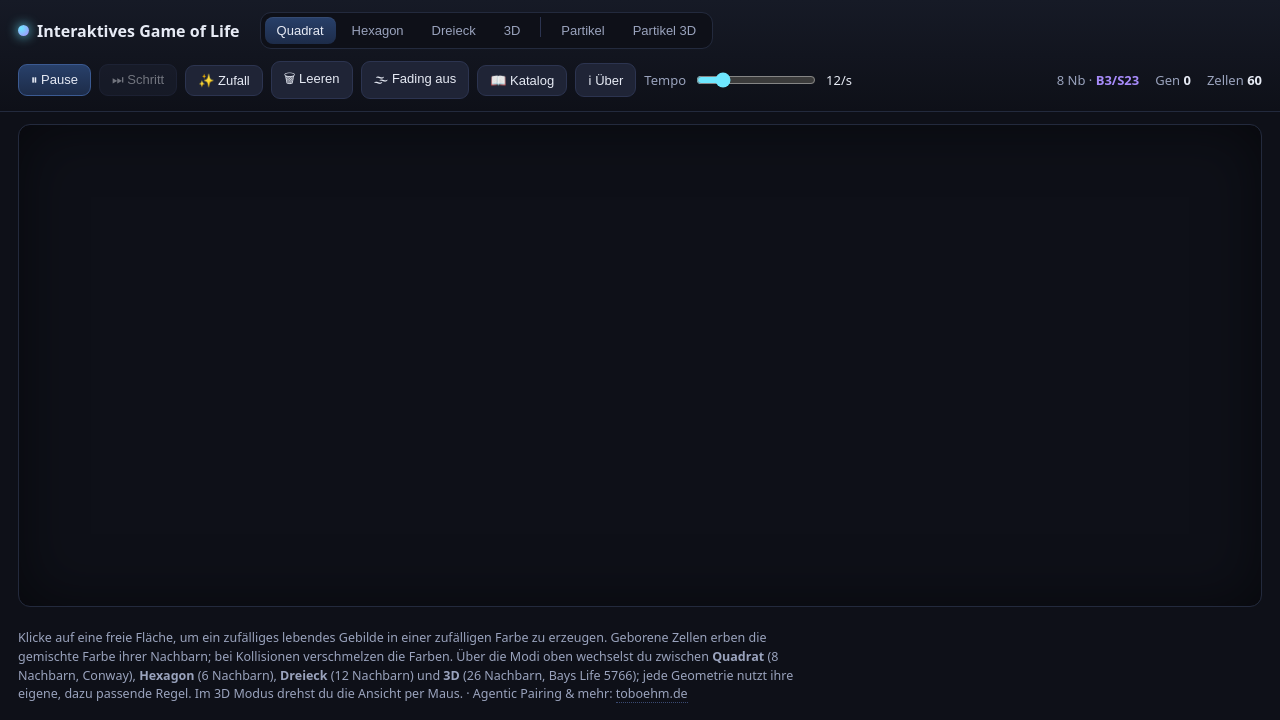
Test: Particle Life mode › switches the whole app over to Particle Life
The width and height of the screenshot is (1280, 720).
Expected: the heading "Interaktives Game of Life" is shown, [18,20,240,42]
Click the button "Partikel".
click(583, 30)  # box [549,17,617,44]
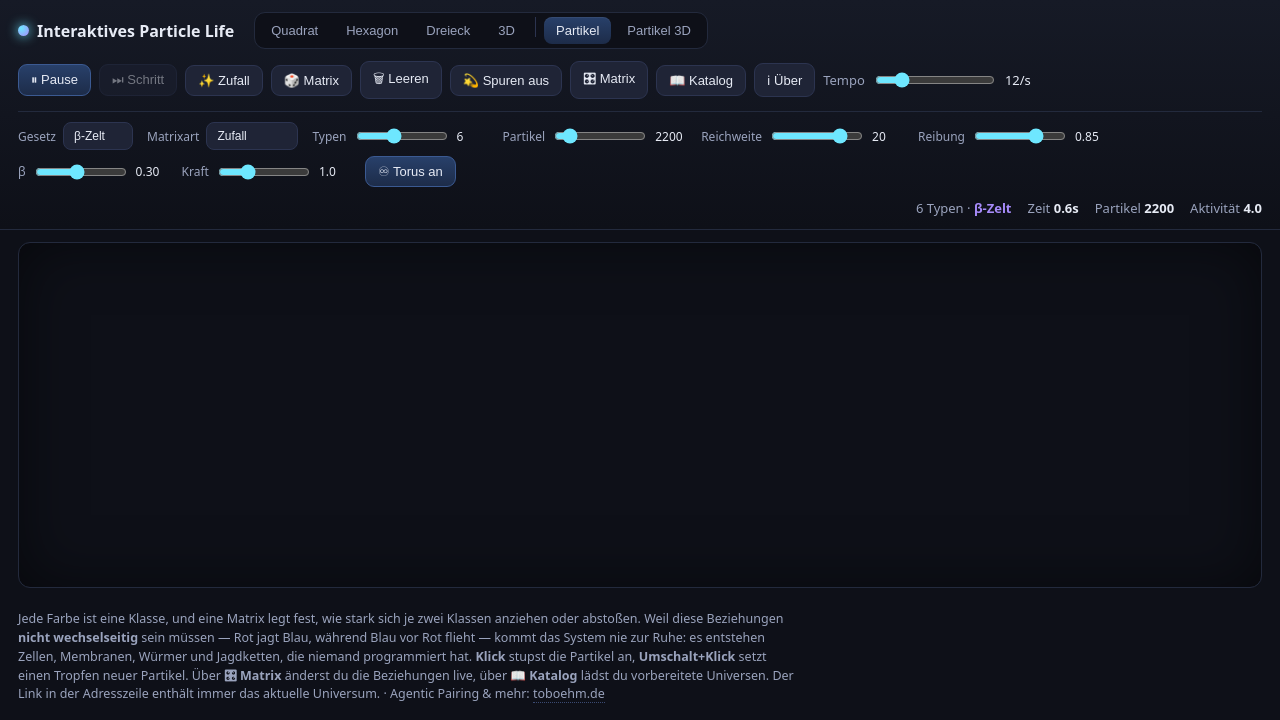
Now the heading "Interaktives Particle Life" is shown, box [18,20,234,42]
Now the element with class "rule" shows "β-Zelt", box [974,199,1012,217]
